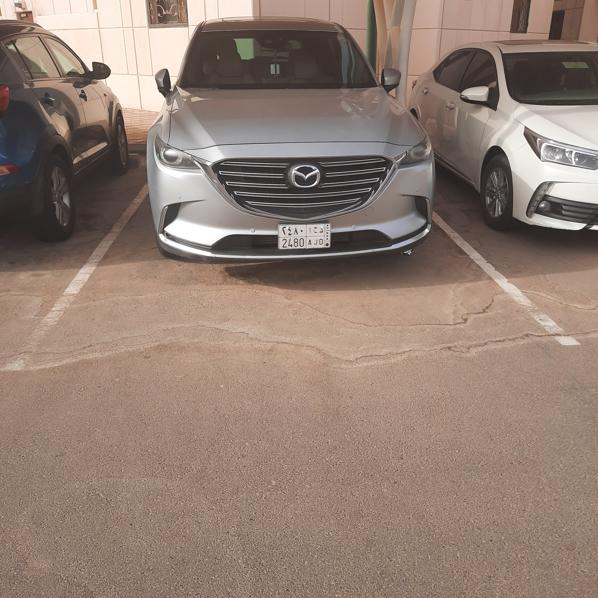numberplate: (278, 224, 331, 248)
